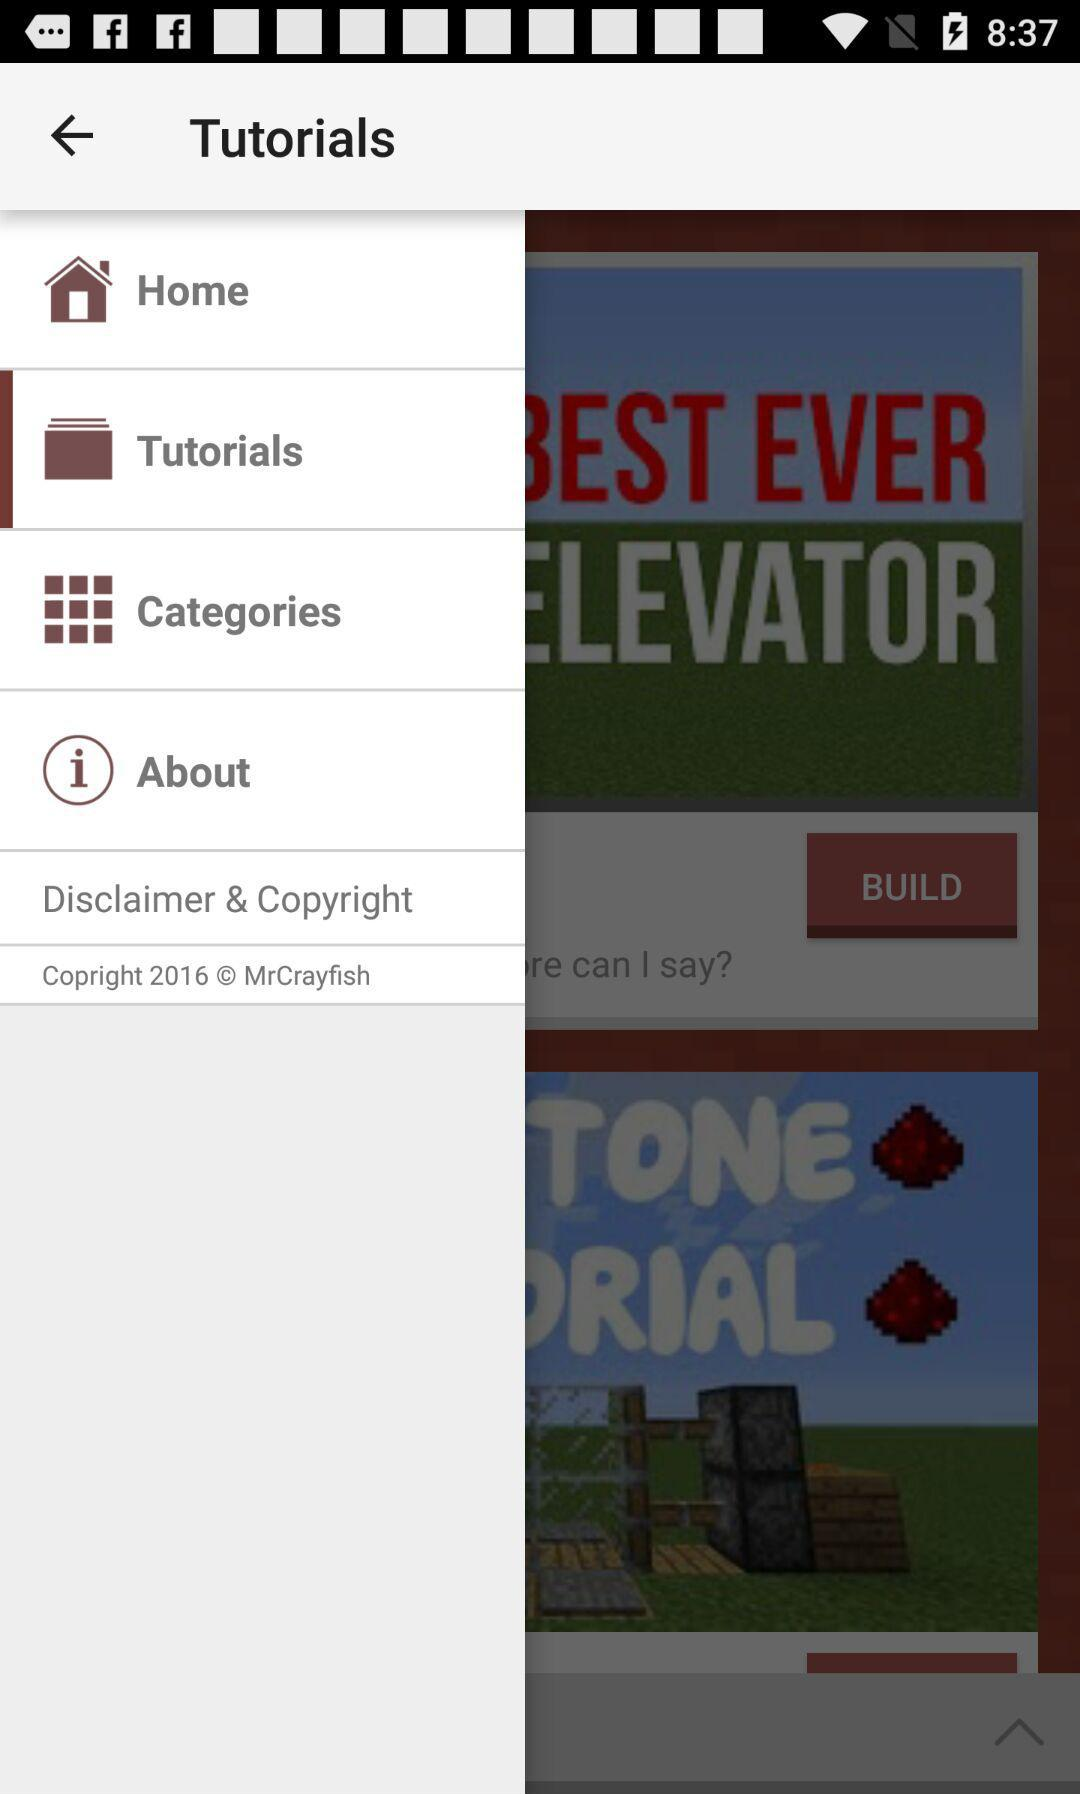Drawer: (3, 211, 525, 1794)
Icon: (42, 734, 117, 807), (44, 575, 115, 646), (44, 255, 115, 325), (44, 416, 115, 482), (51, 114, 95, 159)
Text: (44, 883, 415, 923), (42, 964, 372, 993), (137, 593, 342, 638), (190, 117, 397, 160), (135, 433, 304, 468), (136, 753, 254, 789), (138, 273, 251, 308)
Toolbar: (1, 64, 1080, 210)
UpperTaskBar: (1, 1, 1080, 64)
